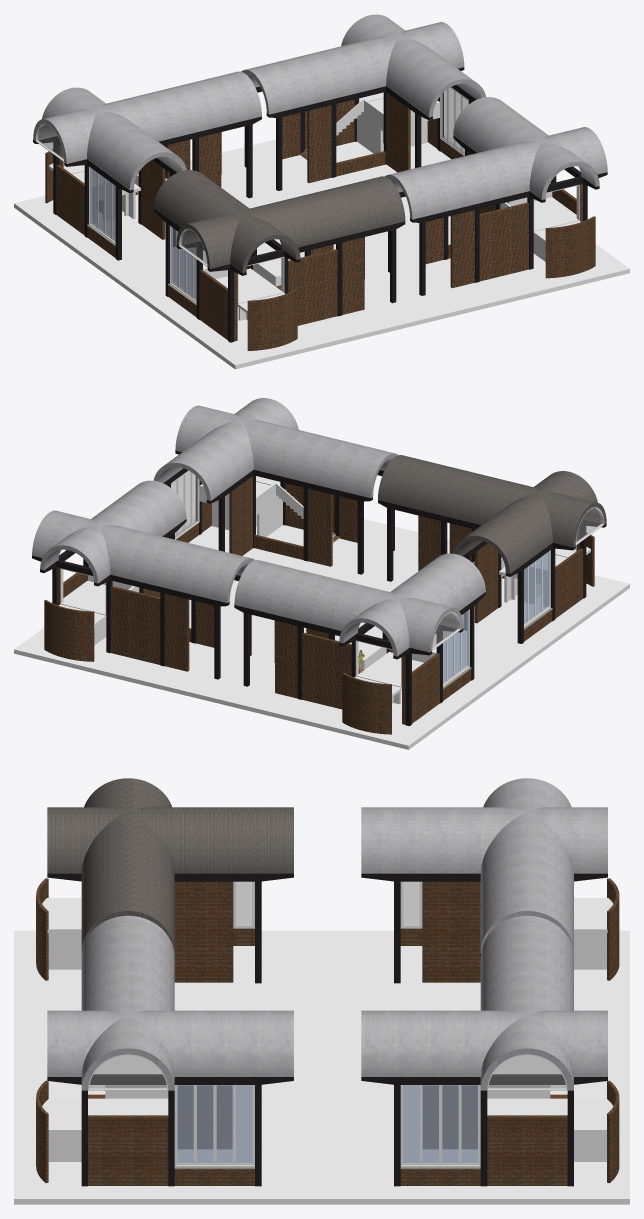
File: casa_modelo.glb
3 renders of one model, top to bottom at view 1: azimuth 30°, elevation 25°; view 2: azimuth 150°, elevation 25°; view 3: azimuth 270°, elevation 25°, orthographic. The views are drawn at different scales.
Parts seen in each view (by area): view 1: Object_16, Object_116, Object_32, Object_120, Object_36, Object_130, Object_46, Object_519, Object_122, Object_1199, Object_544, Object_1186 (+13 smaller); view 2: Object_16, Object_32, Object_116, Object_36, Object_120, Object_46, Object_130, Object_1170, Object_38, Object_1195, Object_548, Object_535 (+13 smaller); view 3: Object_16, Object_32, Object_116, Object_120, Object_36, Object_511, Object_1162, Object_1185, Object_534, Object_615, Object_1266, Object_757 (+63 smaller).
Part boxes in pixels (x1,y1,x2,y2): Object_16: (14, 133, 629, 369); Object_116: (154, 170, 405, 272); Object_32: (33, 71, 261, 190); Object_120: (168, 237, 364, 341); Object_36: (56, 132, 221, 257); Object_130: (154, 208, 405, 342); Object_46: (33, 116, 261, 260); Object_519: (479, 203, 528, 281); Object_122: (247, 289, 297, 350); Object_1199: (309, 105, 331, 182); Object_544: (452, 210, 474, 287); Object_1186: (386, 92, 407, 172); Object_16: (14, 517, 629, 749); Object_32: (234, 553, 485, 656); Object_116: (378, 455, 606, 573); Object_36: (275, 620, 471, 724); Object_120: (418, 515, 583, 641); Object_46: (234, 592, 485, 726); Object_130: (378, 500, 606, 643); Object_1170: (110, 587, 160, 664); Object_38: (342, 672, 391, 734); Object_1195: (164, 593, 187, 671); Object_548: (308, 488, 330, 566); Object_535: (232, 476, 252, 555); Object_16: (14, 930, 629, 1204); Object_32: (361, 778, 607, 952); Object_116: (47, 778, 293, 952); Object_120: (174, 881, 254, 982); Object_36: (400, 881, 480, 982); Object_511: (88, 1117, 168, 1185); Object_1162: (487, 1117, 567, 1185); Object_1185: (423, 1085, 477, 1148); Object_534: (178, 1085, 232, 1148); Object_615: (42, 1098, 168, 1133); Object_1266: (487, 1098, 613, 1133); Object_757: (89, 1055, 166, 1088).
Size of the model in its own units: 27.52 by 7.49 by 26.51.
17 materials, 6 textured.
